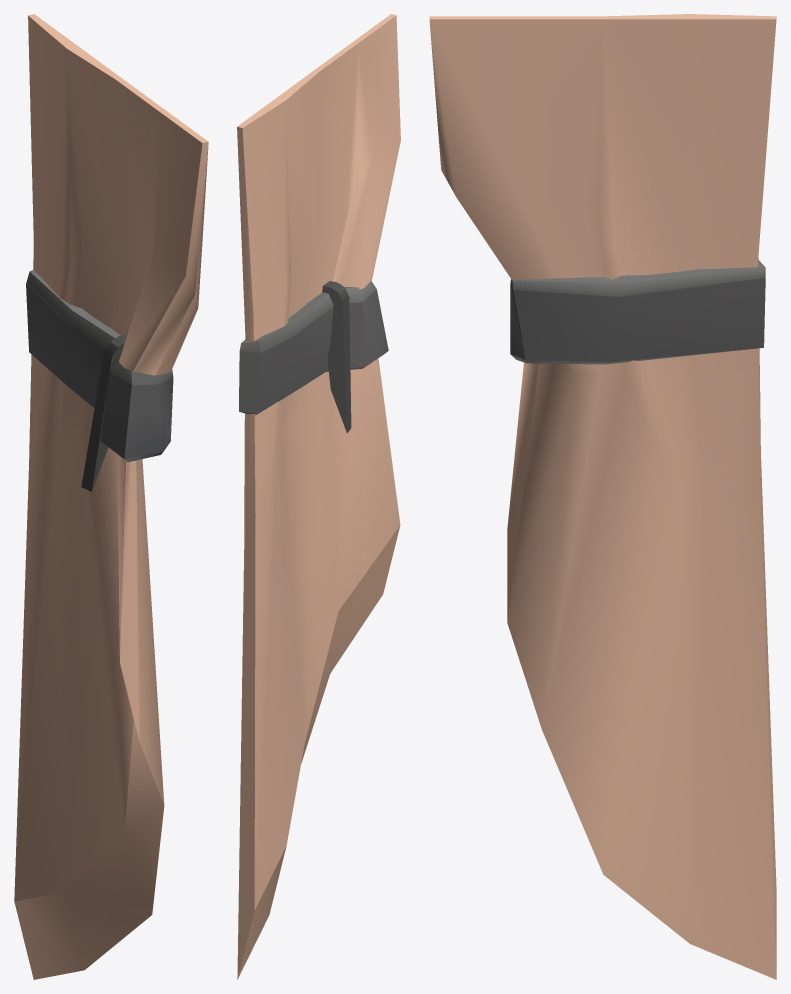
Rendered from Cortun_longGatherd.fbx.
3 renders of one model, left to right at view 1: azimuth 30°, elevation 25°; view 2: azimuth 150°, elevation 25°; view 3: azimuth 270°, elevation 25°, orthographic. The views are drawn at different scales.
Visible parts, largest first — view 1: Cortun_long_gatherd; view 2: Cortun_long_gatherd; view 3: Cortun_long_gatherd.
Part boxes in pixels (x1,y1,x2,y2): Cortun_long_gatherd: (14,14,208,979); Cortun_long_gatherd: (237,14,400,979); Cortun_long_gatherd: (429,14,776,979).
Size of the model in its own units: 0.00268 by 0.0306 by 0.01.
Materials: 1 (1 with a texture image).
